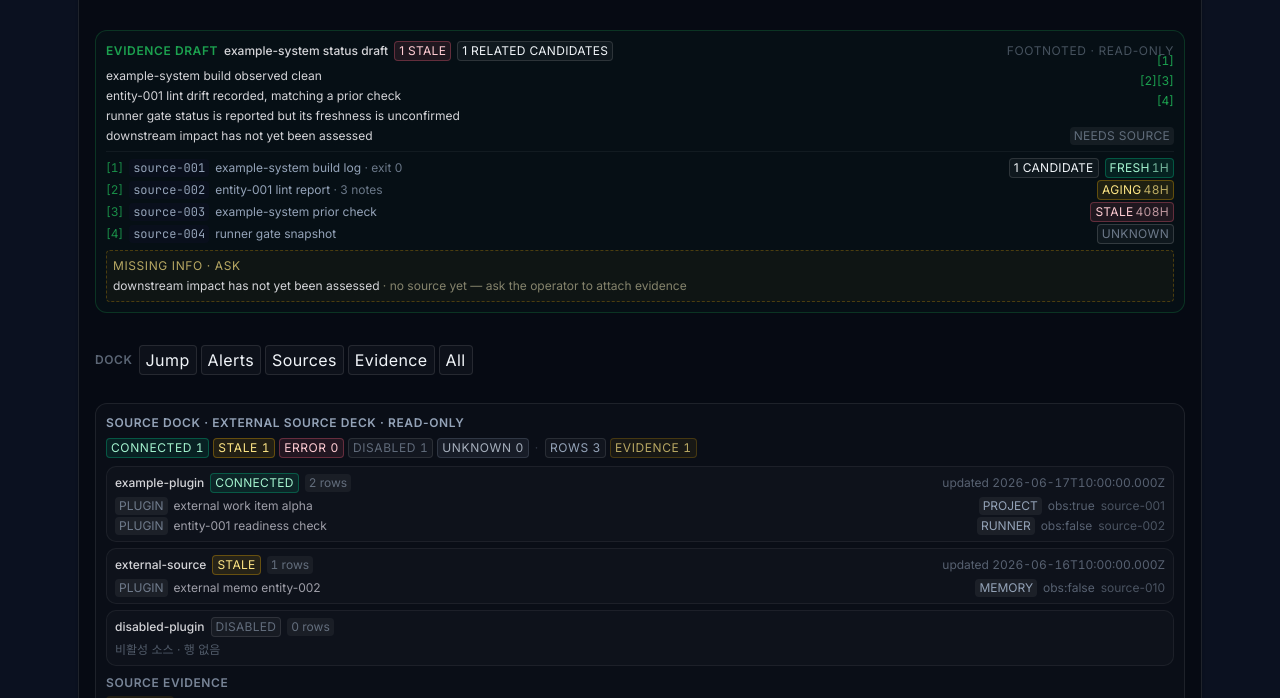
Test: Batch 16 LINE C — Source Dock quick controls › 'alerts' hides connected sources, keeps stale/error
(page scrolled)
Expected: the element with test id "plugin-source-example-plugin" is shown, [106,466,1174,542]
What coordinates should you click on to do the following:
click the button with test id "dock-ctl-alerts"
I would click on:
 (231, 360)
Its box is [201,345,261,375].
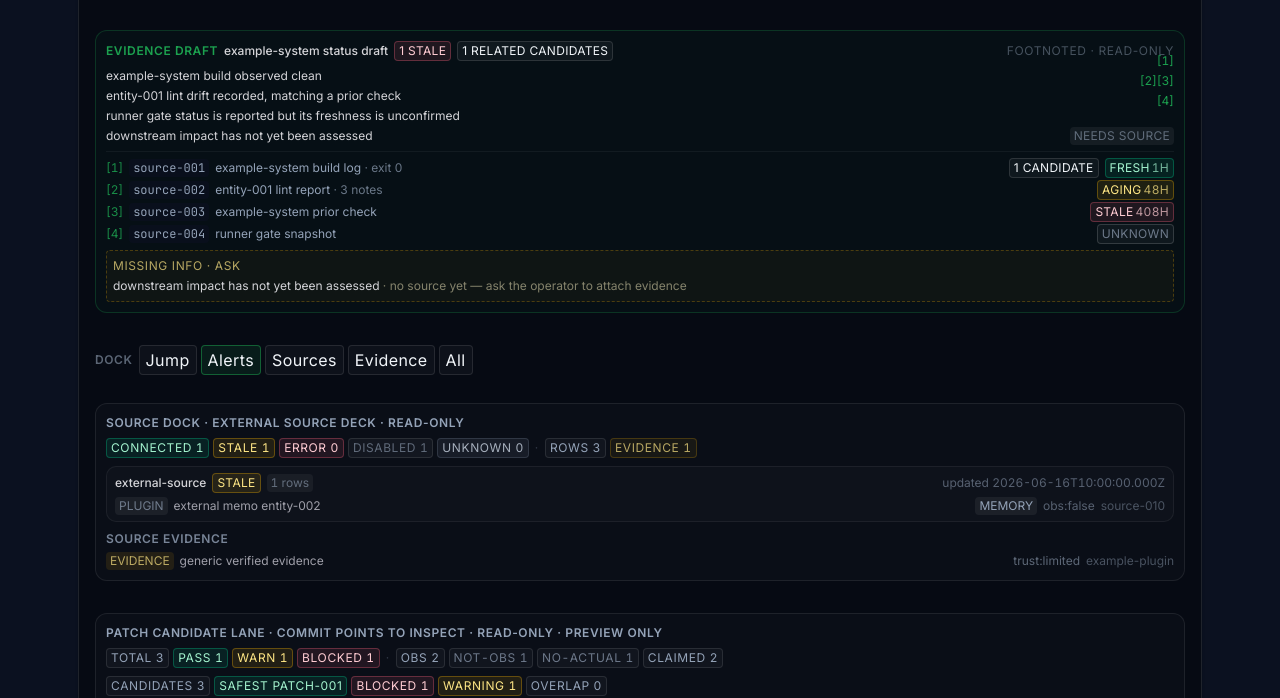
Expected: the element with test id "plugin-source-external-source" is shown, [106,466,1174,522]
Expected: the element with test id "plugin-source-example-plugin" is gone
